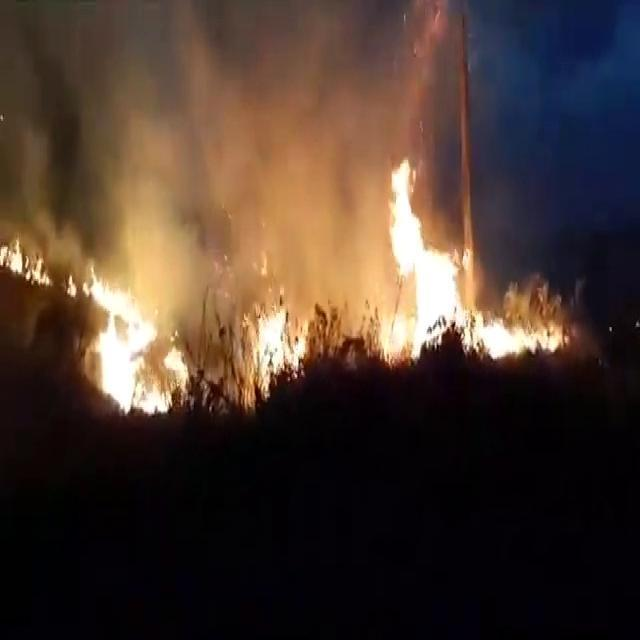Fire: (380, 153, 468, 354), (92, 308, 193, 411), (487, 293, 566, 369), (0, 229, 83, 297), (246, 292, 302, 386)
Smoke: (6, 2, 464, 270)
